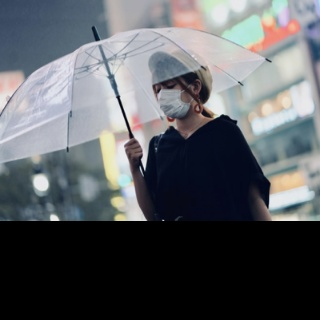with_mask: (152, 76, 195, 118)
